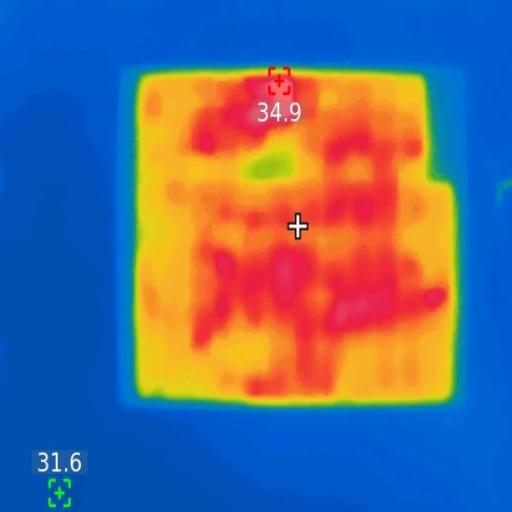hotspot: (192, 234, 452, 364), (184, 82, 320, 145)
